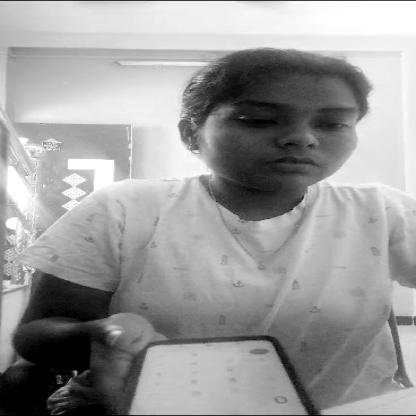Distracted: (213, 74, 350, 190)
